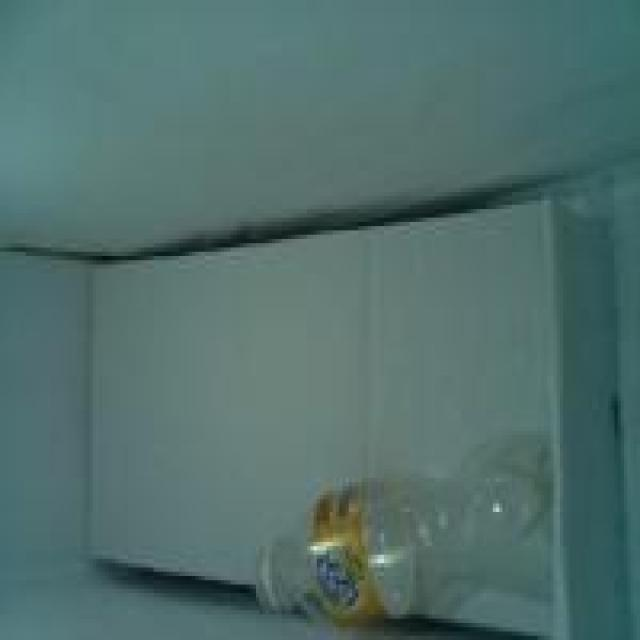bottle: (238, 461, 578, 640)
